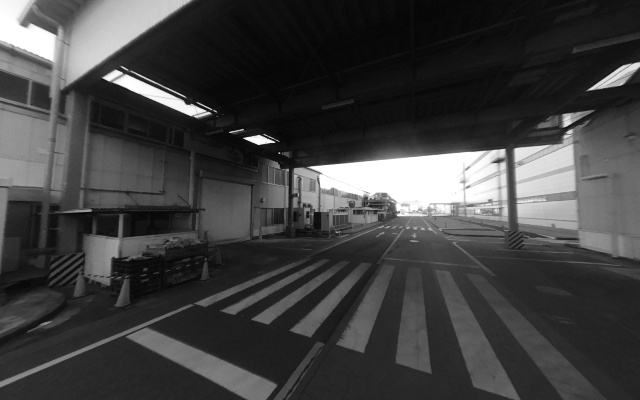bollard: (49, 254, 86, 286), (504, 230, 526, 253)
